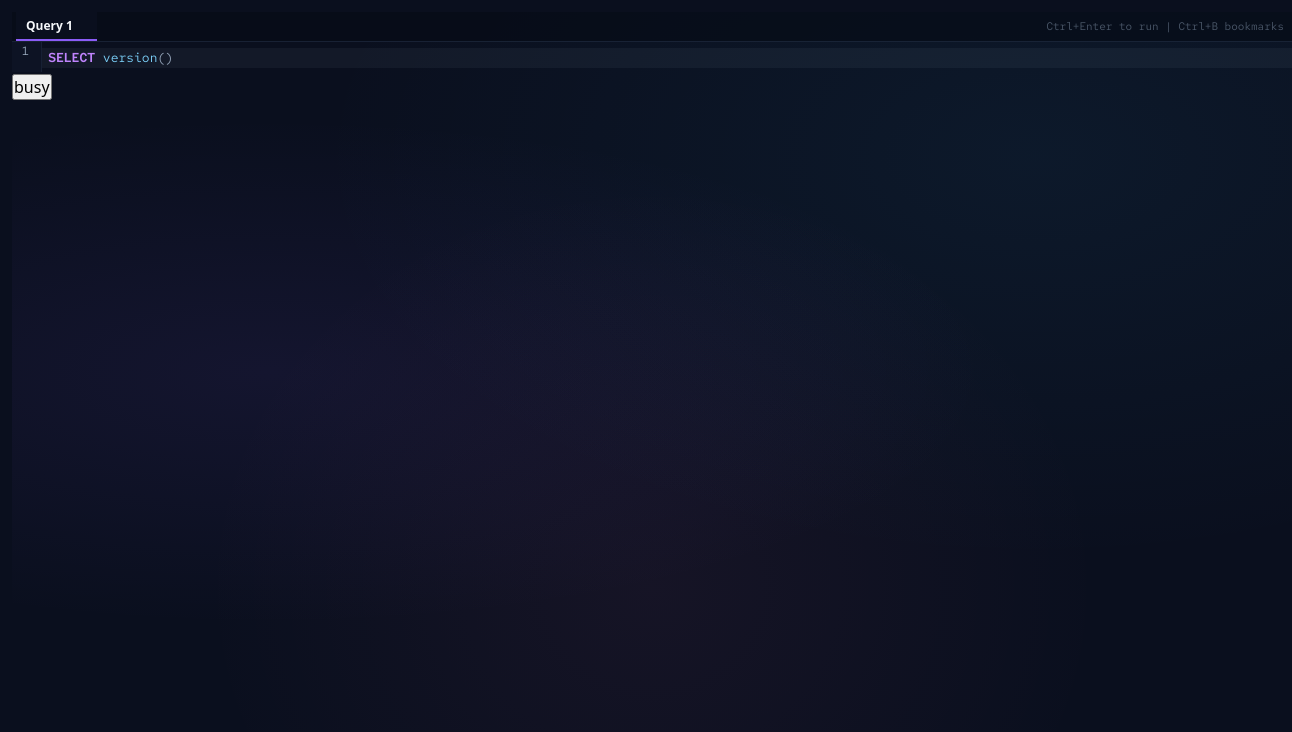
Test: tabs, the strip and the editor together › a new tab is empty and does not carry the first tab's text
Click the button named "New query tab" at (112, 26), box [99,12,125,41]
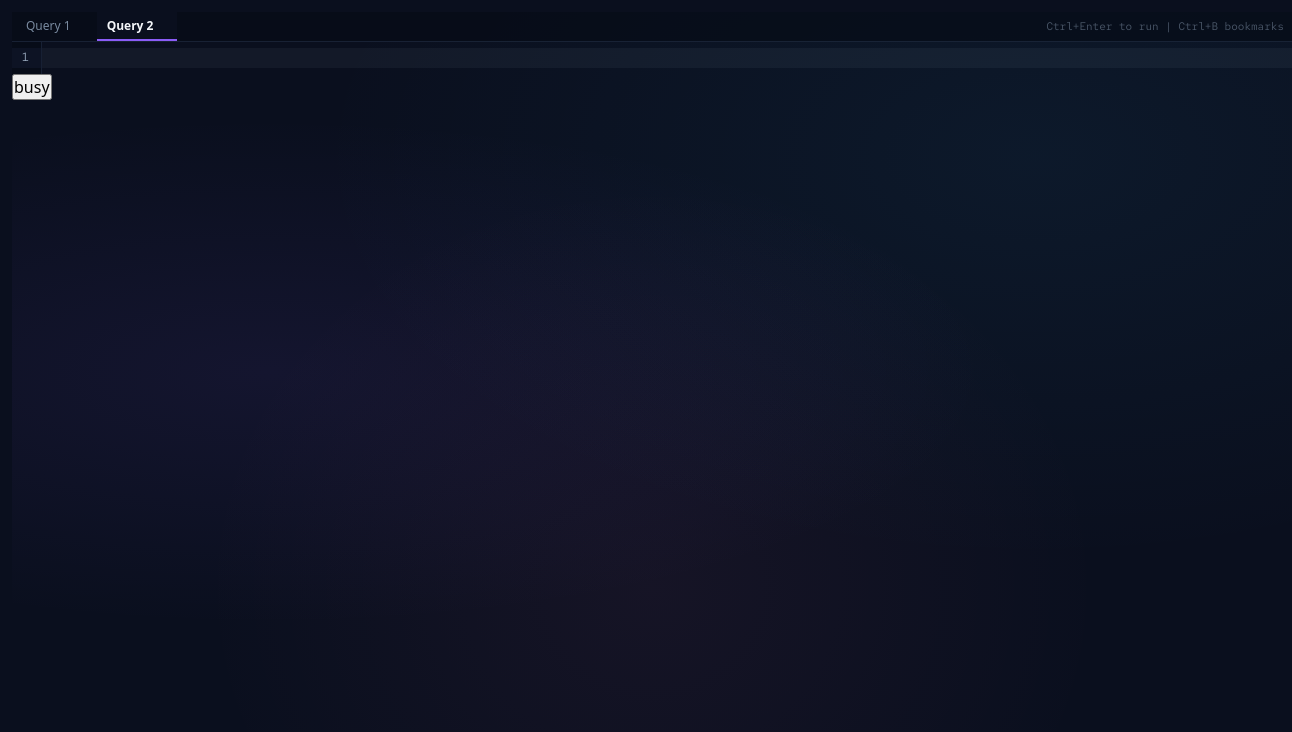
Result: the number of tabs is 2 at [26,17,71,34]; [97,12,177,41]
